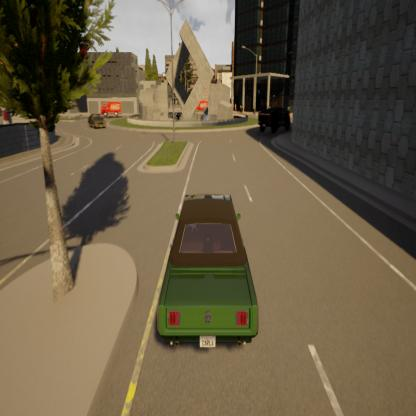Cars: (158, 193, 258, 352), (258, 105, 292, 137), (101, 100, 120, 116), (88, 113, 104, 130)
